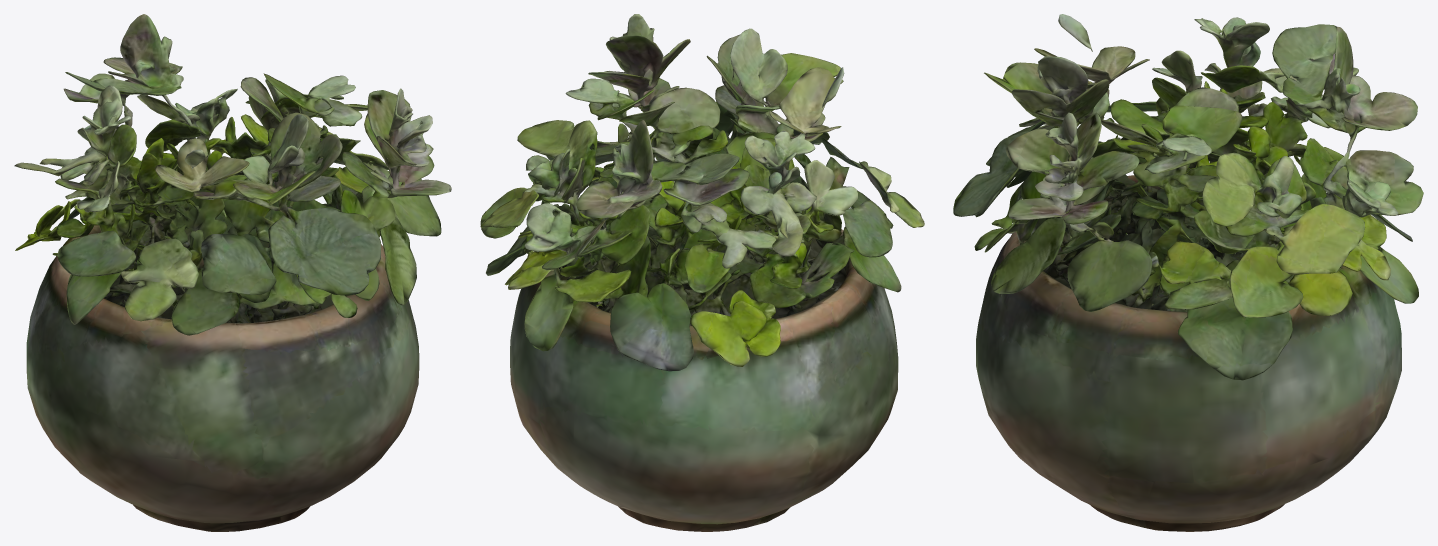
File: plant.glb
3 views of the same model, side by side, from view 1: azimuth 30°, elevation 25°; view 2: azimuth 150°, elevation 25°; view 3: azimuth 270°, elevation 25° (orthographic). The views are drawn at different scales.
Bounding box in the file's own units: 1.78 × 2 × 1.85.
1 material, 1 textured.
